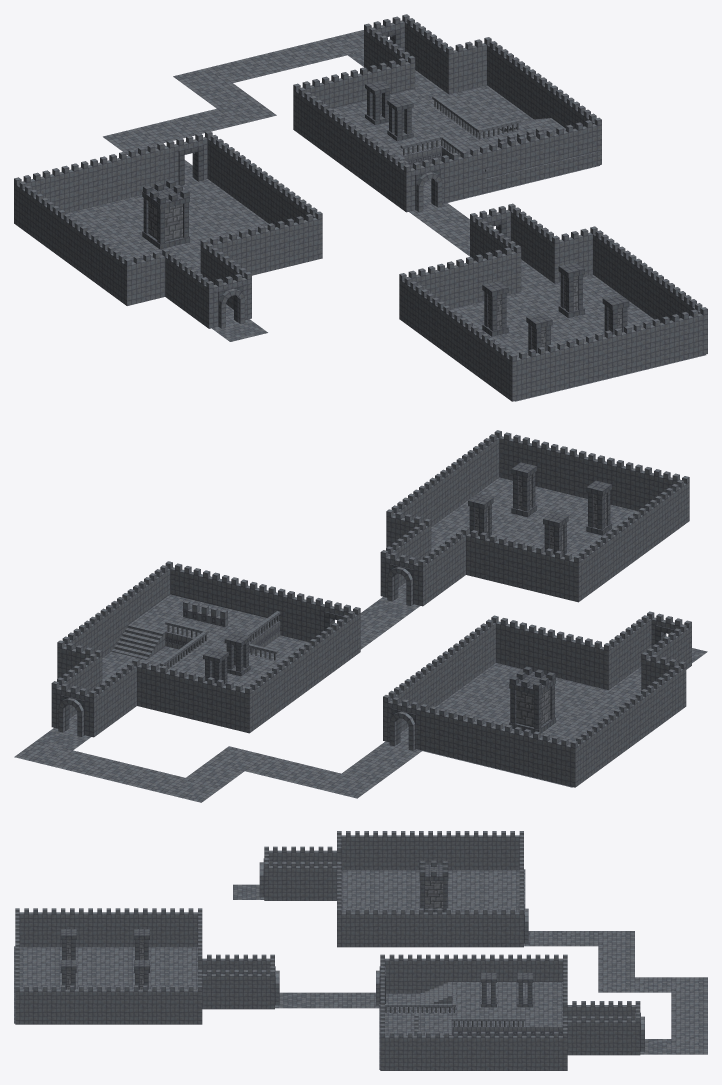
File: Castle.fbx
3 views of the same model, one above another, from view 1: azimuth 30°, elevation 25°; view 2: azimuth 150°, elevation 25°; view 3: azimuth 270°, elevation 25° (orthographic). The views are drawn at different scales.
Visible parts, largest first — view 1: Castle_Tower_5, Castle_Gate_5_3, Castle_Wall_10_6, Castle_Wall_10__7_, Castle_Wall_10__7__4, Castle_Wall_10__7__23, Castle_Wall_10__6__1, Castle_Wall_10__6__5, Castle_Wall_10__7__3, Castle_Wall_10__7__12, Castle_Wall_10__6__10, Castle_Wall_10__6__11 (+85 smaller); view 2: Castle_Tower_5, Castle_Wall_10__7_, Castle_Gate_5, Castle_Gate_5_1, Castle_Wall_10__7__5, Castle_Wall_10__7__14, Castle_Wall_10__6__2, Castle_Wall_10__6__10, Castle_Wall_10__4__1, Castle_Wall_10__6__9, Castle_Wall_10__4_, Castle_Wall_10__7__21 (+87 smaller); view 3: Castle_Wall_10__7_, Castle_Wall_10__6_, Castle_Tower_5, Castle_Wall_10, Castle_Wall_10__6__8, Castle_Wall_10__7__19, Castle_Wall_10__7__24, Castle_Wall_10__8__5, Castle_Wall_10_3, Castle_Wall_10__5_, Castle_Wall_10__7__2, Castle_Wall_10__8_ (+87 smaller).
Part boxes in pixels (<box>): Castle_Tower_5: <box>142,179,189,249</box>; Castle_Gate_5_3: <box>206,271,251,328</box>; Castle_Wall_10_6: <box>124,251,165,305</box>; Castle_Wall_10__7_: <box>637,262,685,322</box>; Castle_Wall_10__7__4: <box>547,337,588,392</box>; Castle_Wall_10__7__23: <box>284,211,322,267</box>; Castle_Wall_10__6__1: <box>662,309,703,364</box>; Castle_Wall_10__6__5: <box>556,120,597,174</box>; Castle_Wall_10__7__3: <box>586,328,626,382</box>; Castle_Wall_10__7__12: <box>480,138,520,193</box>; Castle_Wall_10__6__10: <box>59,159,97,213</box>; Castle_Wall_10__6__11: <box>246,221,284,275</box>; Castle_Tower_5: <box>509,666,555,733</box>; Castle_Wall_10__7_: <box>435,446,480,522</box>; Castle_Gate_5: <box>380,550,425,606</box>; Castle_Gate_5_1: <box>51,681,96,737</box>; Castle_Wall_10__7__5: <box>541,548,581,602</box>; Castle_Wall_10__7__14: <box>212,679,252,733</box>; Castle_Wall_10__6__2: <box>536,441,576,495</box>; Castle_Wall_10__6__10: <box>495,722,532,777</box>; Castle_Wall_10__4__1: <box>137,661,177,714</box>; Castle_Wall_10__6__9: <box>533,731,570,786</box>; Castle_Wall_10__4_: <box>466,530,506,583</box>; Castle_Wall_10__7__21: <box>458,713,495,768</box>; Castle_Wall_10__7_: <box>51,985,124,1024</box>; Castle_Wall_10__6_: <box>124,985,161,1024</box>; Castle_Tower_5: <box>419,860,448,912</box>; Castle_Wall_10: <box>234,970,270,1009</box>; Castle_Wall_10__6__8: <box>378,831,414,870</box>; Castle_Wall_10__7__19: <box>451,831,487,870</box>; Castle_Wall_10__7__24: <box>378,908,414,947</box>; Castle_Wall_10__8__5: <box>451,908,487,947</box>; Castle_Wall_10_3: <box>599,1016,635,1055</box>; Castle_Wall_10__5_: <box>161,985,197,1024</box>; Castle_Wall_10__7__2: <box>15,985,51,1024</box>; Castle_Wall_10__8_: <box>161,908,197,947</box>.
Size of the model in its own units: 7876 by 760 by 11400.
